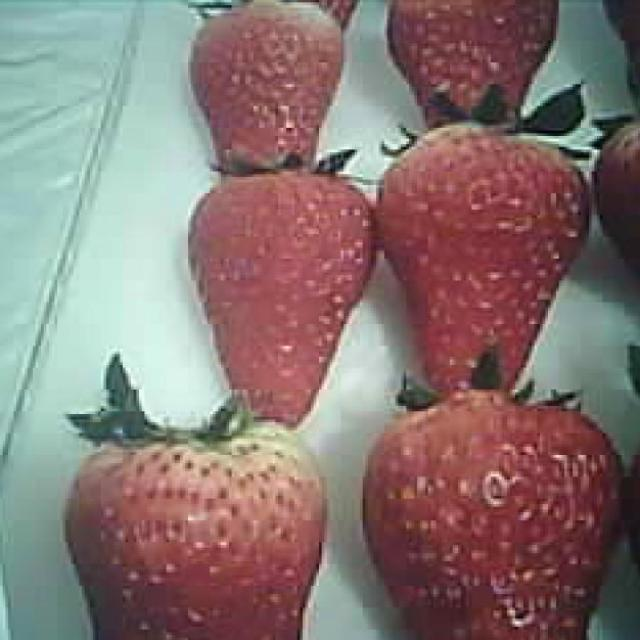Healthy Fruit: (360, 379, 623, 638), (374, 124, 591, 393), (67, 424, 333, 640), (184, 170, 376, 426), (191, 0, 349, 179)
